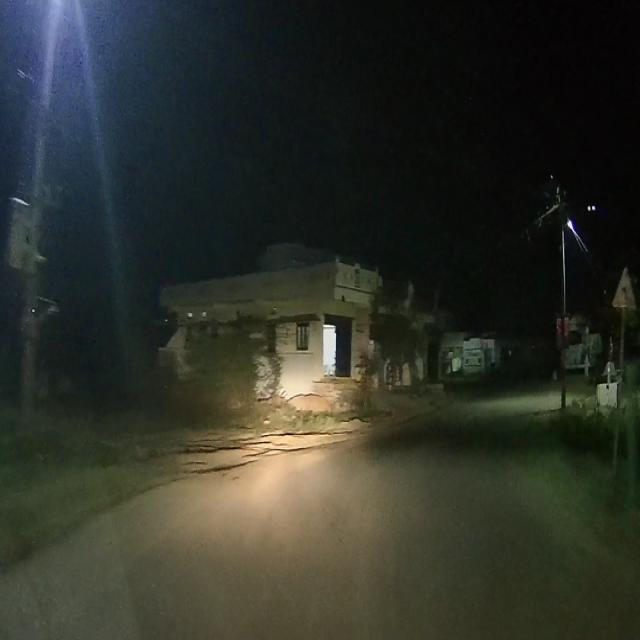left-hand-curve: (613, 263, 635, 309)
